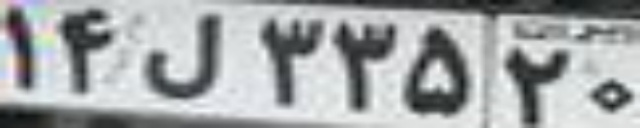0: (576, 79, 632, 113)
1: (4, 5, 35, 89)
2: (504, 46, 574, 125)
3: (257, 16, 326, 106), (332, 20, 398, 110)
4: (54, 9, 123, 94)
5: (406, 23, 469, 116)
lam: (143, 10, 225, 100)
